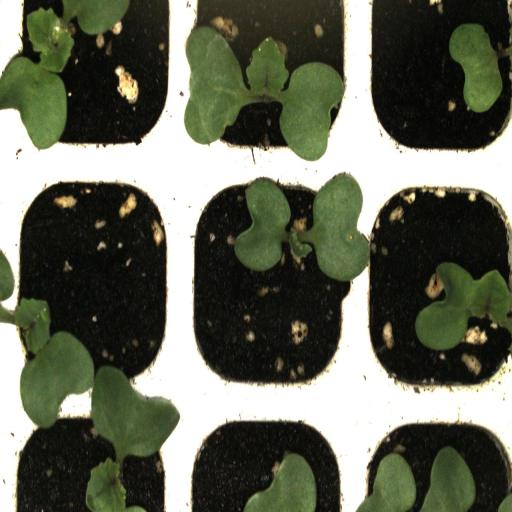Folha: (234, 175, 370, 282), (415, 262, 512, 351), (357, 446, 476, 512), (449, 23, 503, 113), (243, 452, 317, 512)
Germinacao: (0, 164, 178, 394), (179, 164, 344, 394), (357, 162, 512, 405), (7, 0, 177, 164), (181, 0, 347, 164)
